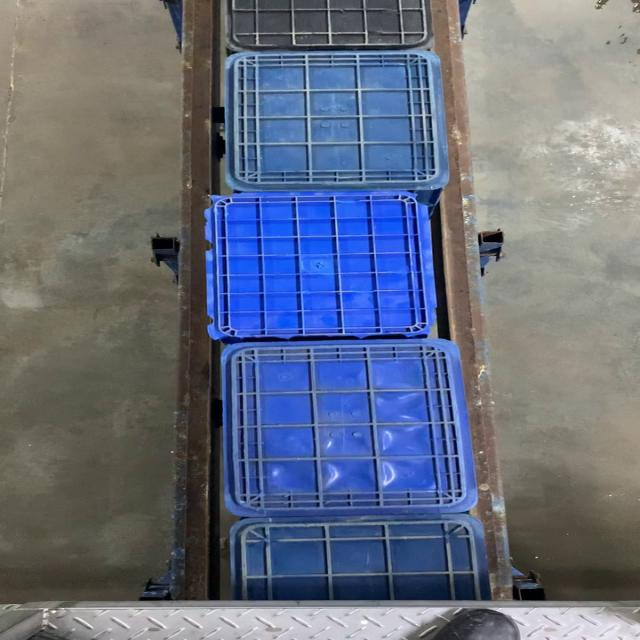Box: (212, 342, 480, 519), (221, 51, 451, 190)
Damaged_box: (205, 189, 438, 341)
